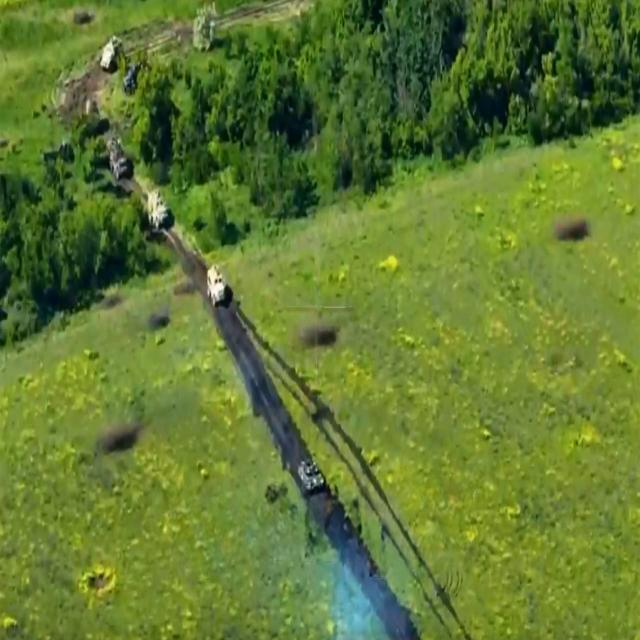MBT: (298, 454, 327, 498)
Vehicle: (148, 190, 173, 238), (106, 137, 131, 183), (206, 264, 228, 308), (102, 36, 125, 75)
